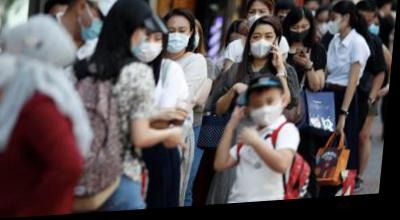OK: (79, 5, 108, 45), (251, 101, 285, 131), (138, 33, 166, 67), (250, 33, 279, 64), (166, 26, 192, 57), (247, 10, 272, 36), (132, 28, 149, 60), (316, 22, 332, 41), (330, 20, 344, 41), (368, 26, 383, 44)
WRONG: (289, 25, 313, 48)
